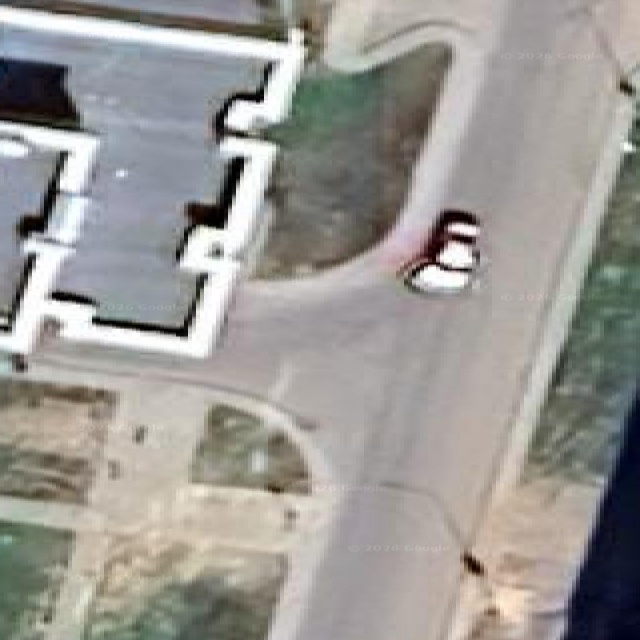car: (399, 210, 479, 292)
